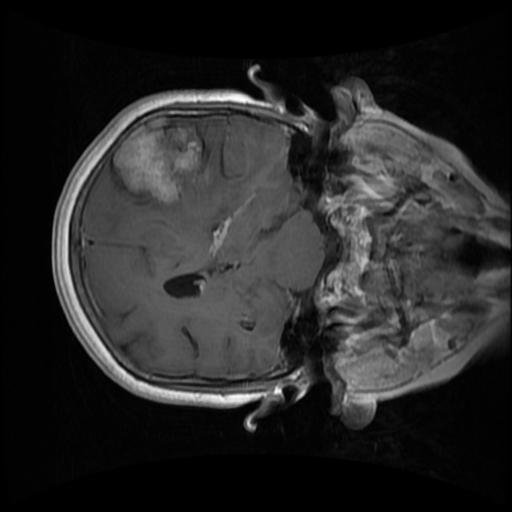meningioma: (111, 115, 205, 204)
